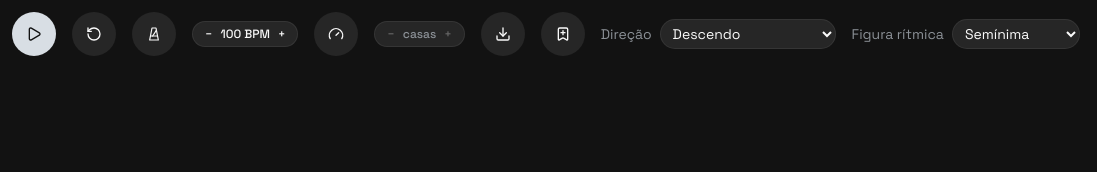
it: ControlBar › the speed trainer › opens its settings when switched on
Click the button named "treinador de velocidade" at (336, 34), box [314,12,358,56]
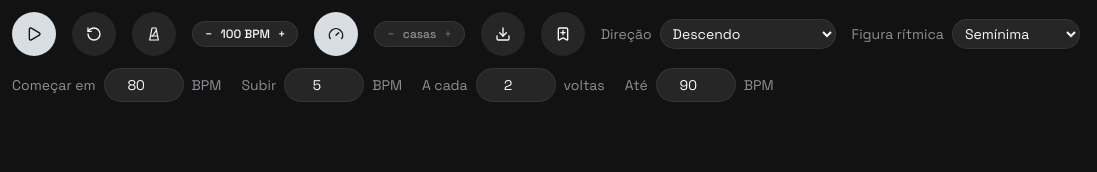
Result: the number field labelled "Começar em BPM" holds "80" at [104,68,184,102]
Result: the number field labelled "Até BPM" holds "90" at [656,68,736,102]
